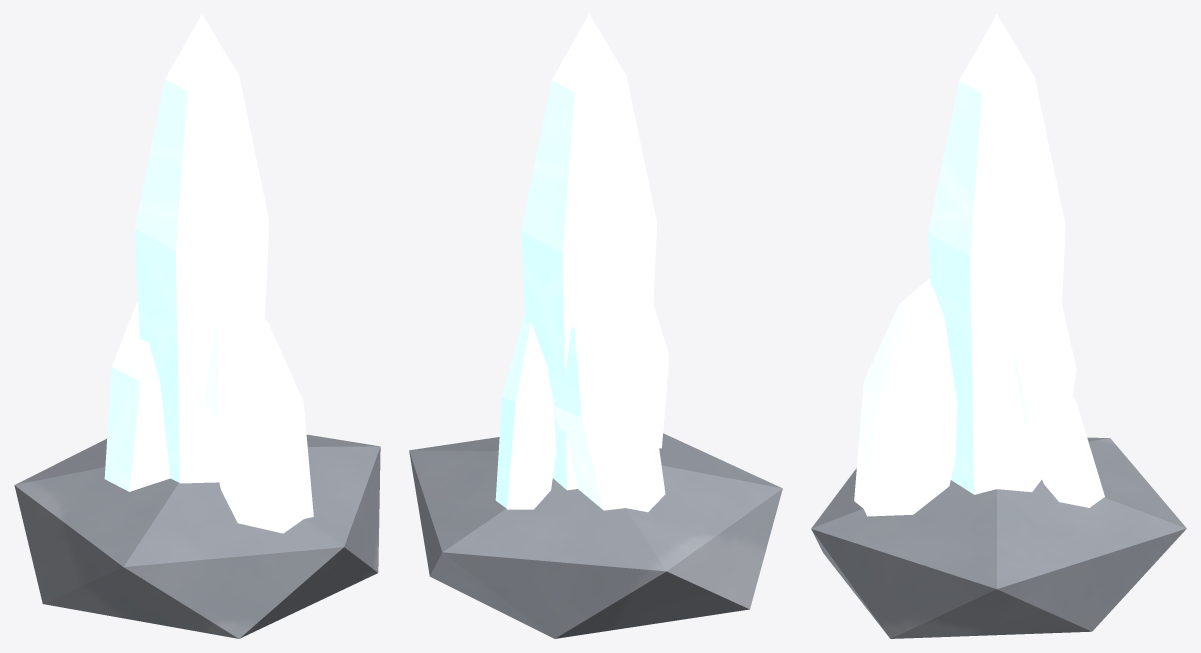
Rendered from ice_crystal_small.gltf.
3 renders of one model, left to right at view 1: azimuth 30°, elevation 25°; view 2: azimuth 150°, elevation 25°; view 3: azimuth 270°, elevation 25°, orthographic. The views are drawn at different scales.
Parts seen in each view (by area): view 1: ice_crystal_small; view 2: ice_crystal_small; view 3: ice_crystal_small.
Part boxes in pixels (bbox=[...]): ice_crystal_small: bbox=[14, 14, 380, 638]; ice_crystal_small: bbox=[409, 14, 782, 638]; ice_crystal_small: bbox=[811, 14, 1186, 638].
Bounding box in the file's own units: 0.4429 × 0.6906 × 0.4179.
1 material, 1 textured.
